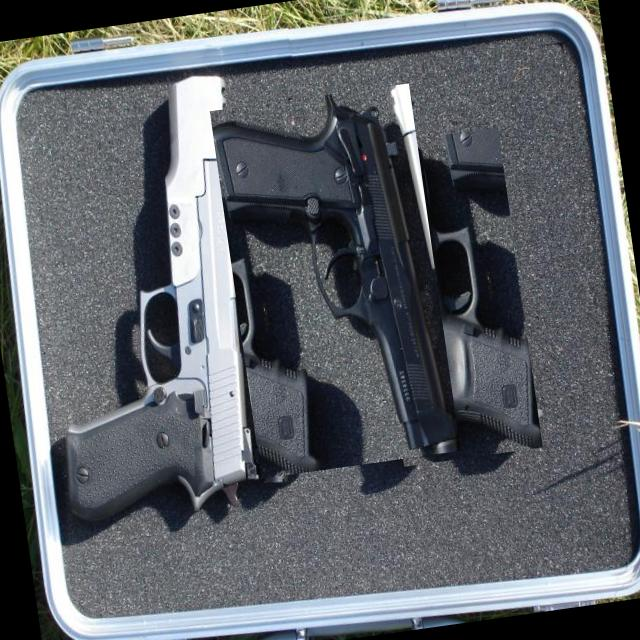Gun: (213, 95, 458, 454), (66, 76, 248, 518), (371, 144, 542, 452)
